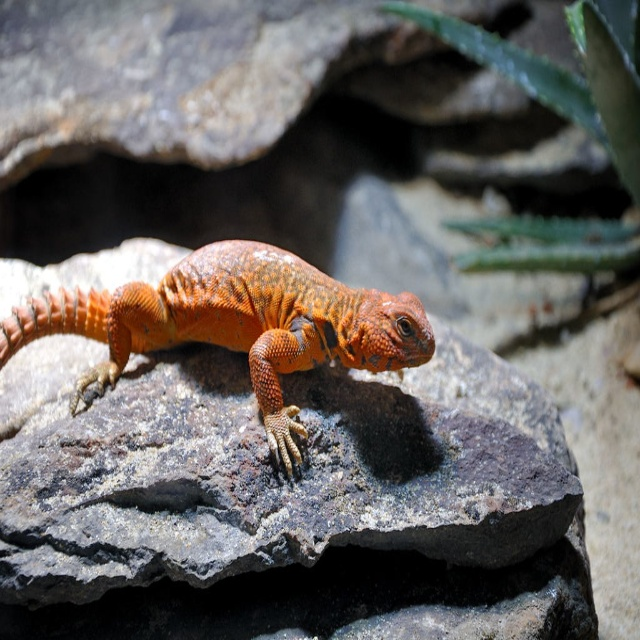Lizard: (1, 243, 437, 469)
